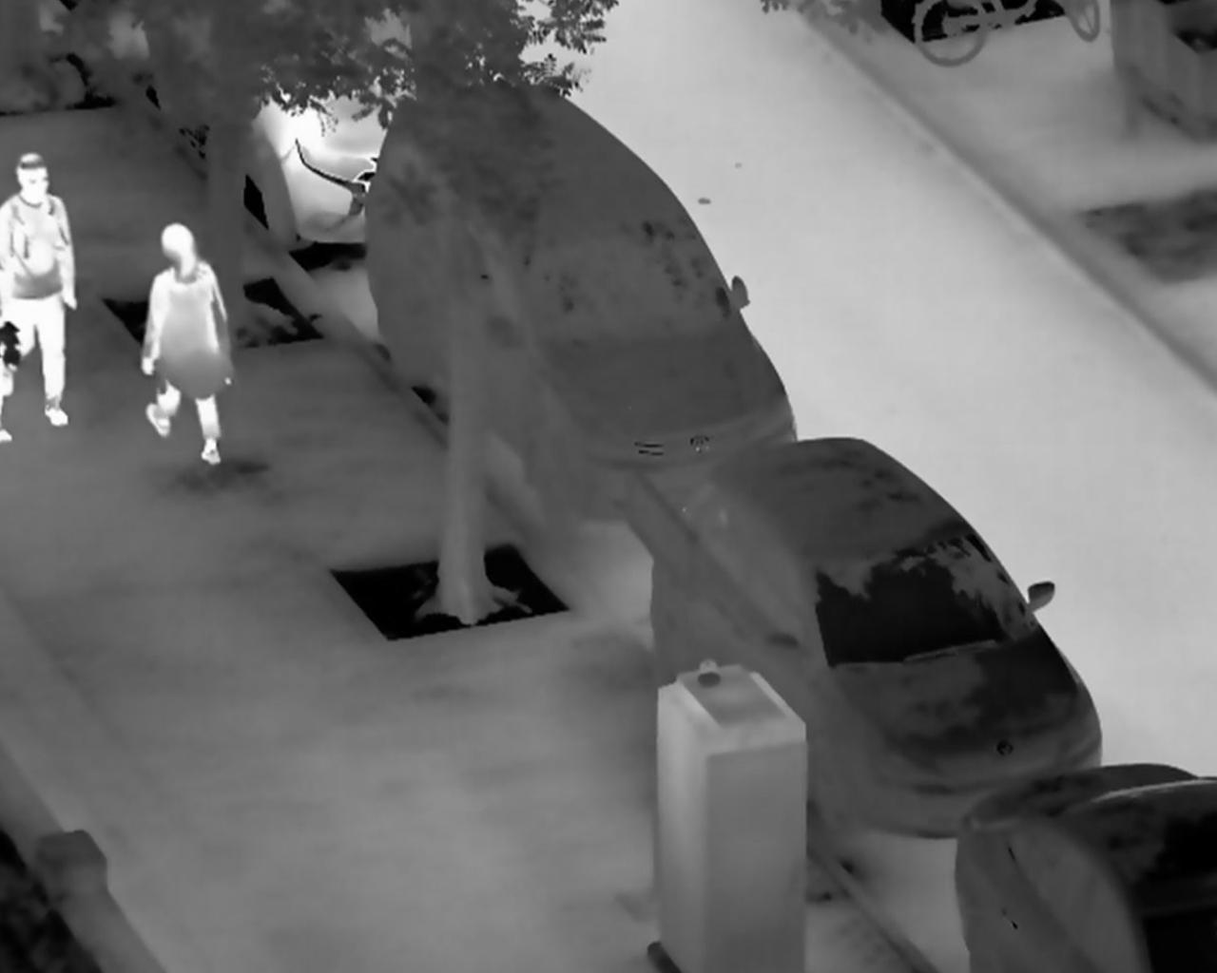person: (138, 220, 235, 464)
